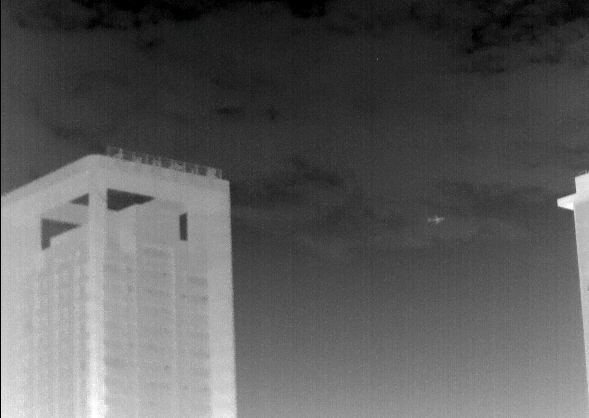dim target: (427, 214, 446, 225)
